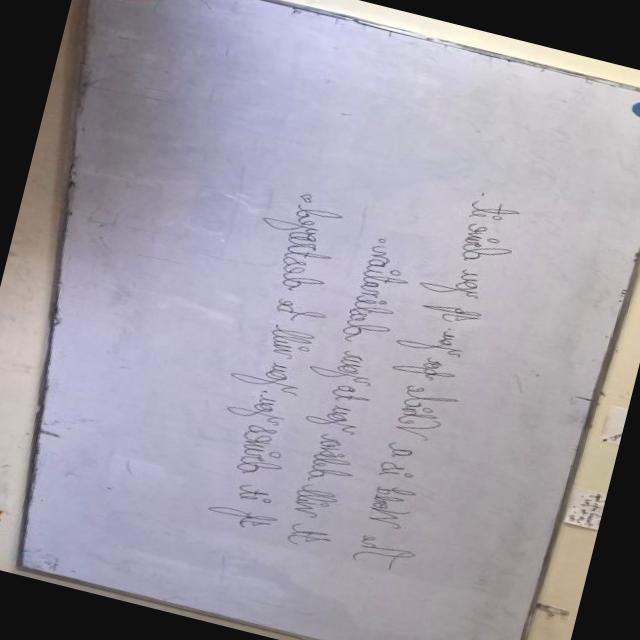White-board: (17, 0, 640, 640)
